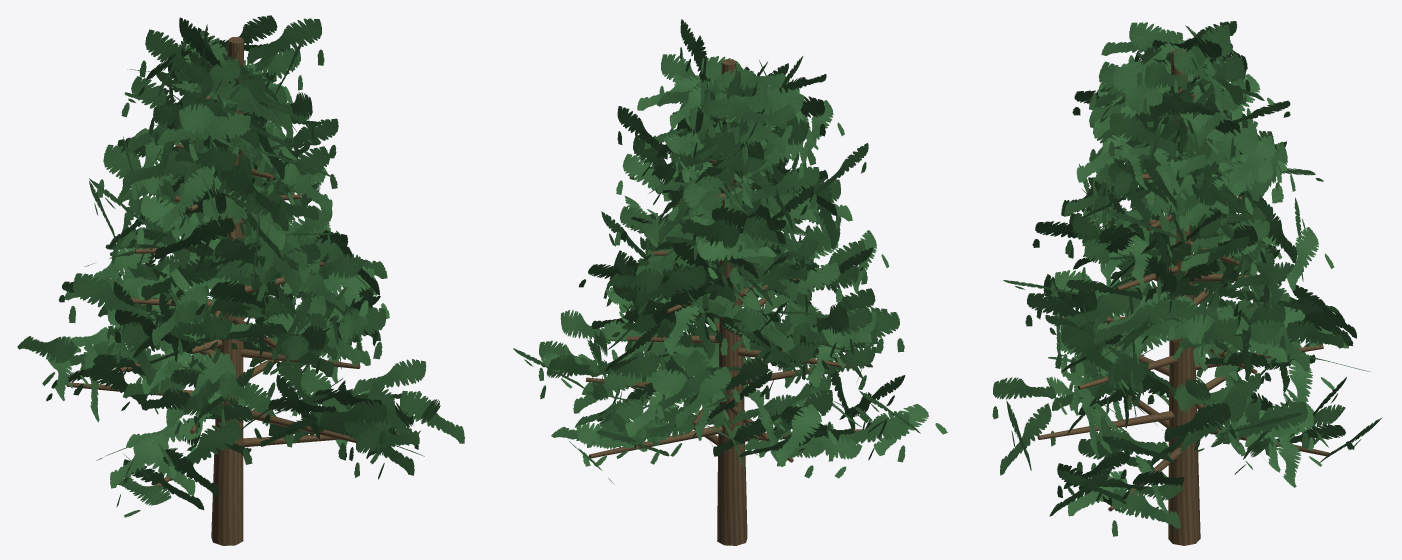
The picture shows the model from 3 angles, left to right: view 1: azimuth 30°, elevation 25°; view 2: azimuth 150°, elevation 25°; view 3: azimuth 270°, elevation 25°; orthographic projection. The views are drawn at different scales.
Visible parts, largest first — view 1: pine-needle, pine-bark; view 2: pine-needle, pine-bark; view 3: pine-needle, pine-bark.
Boxes of the visible parts, <box> form: pine-needle: <box>17,15,464,517</box>; pine-bark: <box>67,37,396,545</box>; pine-needle: <box>513,19,947,484</box>; pine-bark: <box>586,59,890,545</box>; pine-needle: <box>992,21,1381,536</box>; pine-bark: <box>1037,48,1329,545</box>.
Bounding box in the file's own units: 7.7 × 10.42 × 7.46.
2 materials, 2 textured.
